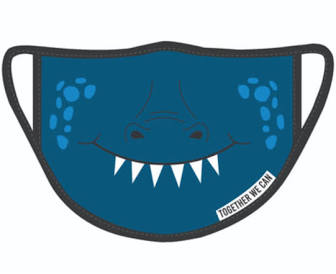FaceMask: (2, 41, 334, 242)
